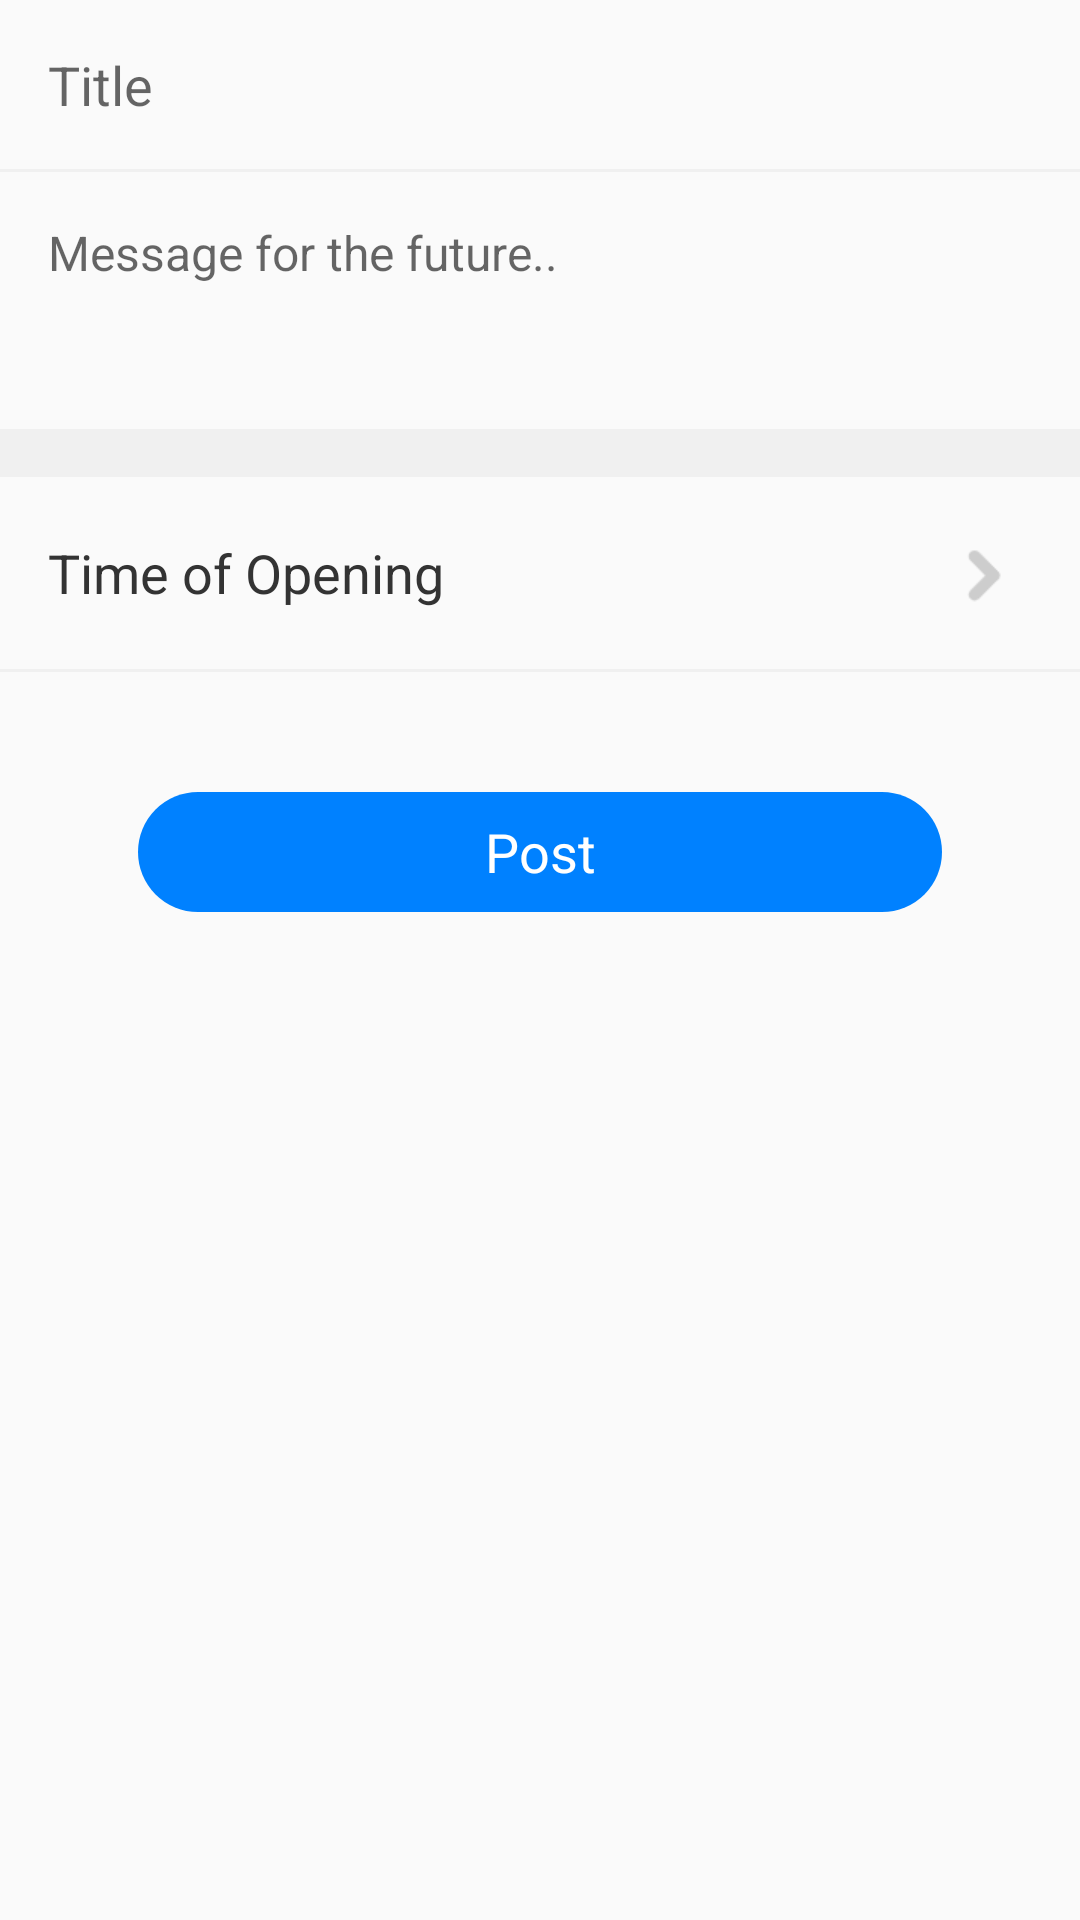

Icon bounding boxes for this 1080*1920 phone screenshot, format (x1, y1, x2, y2):
right: (969, 551, 1000, 600)
